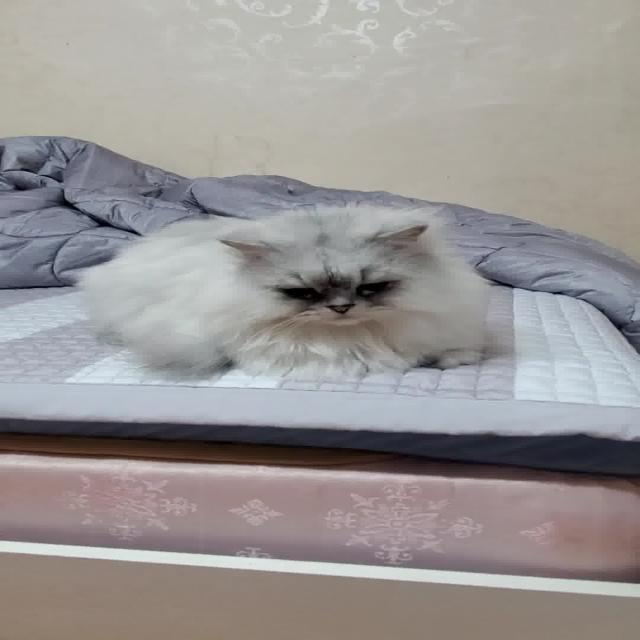cat: (49, 198, 520, 388)
